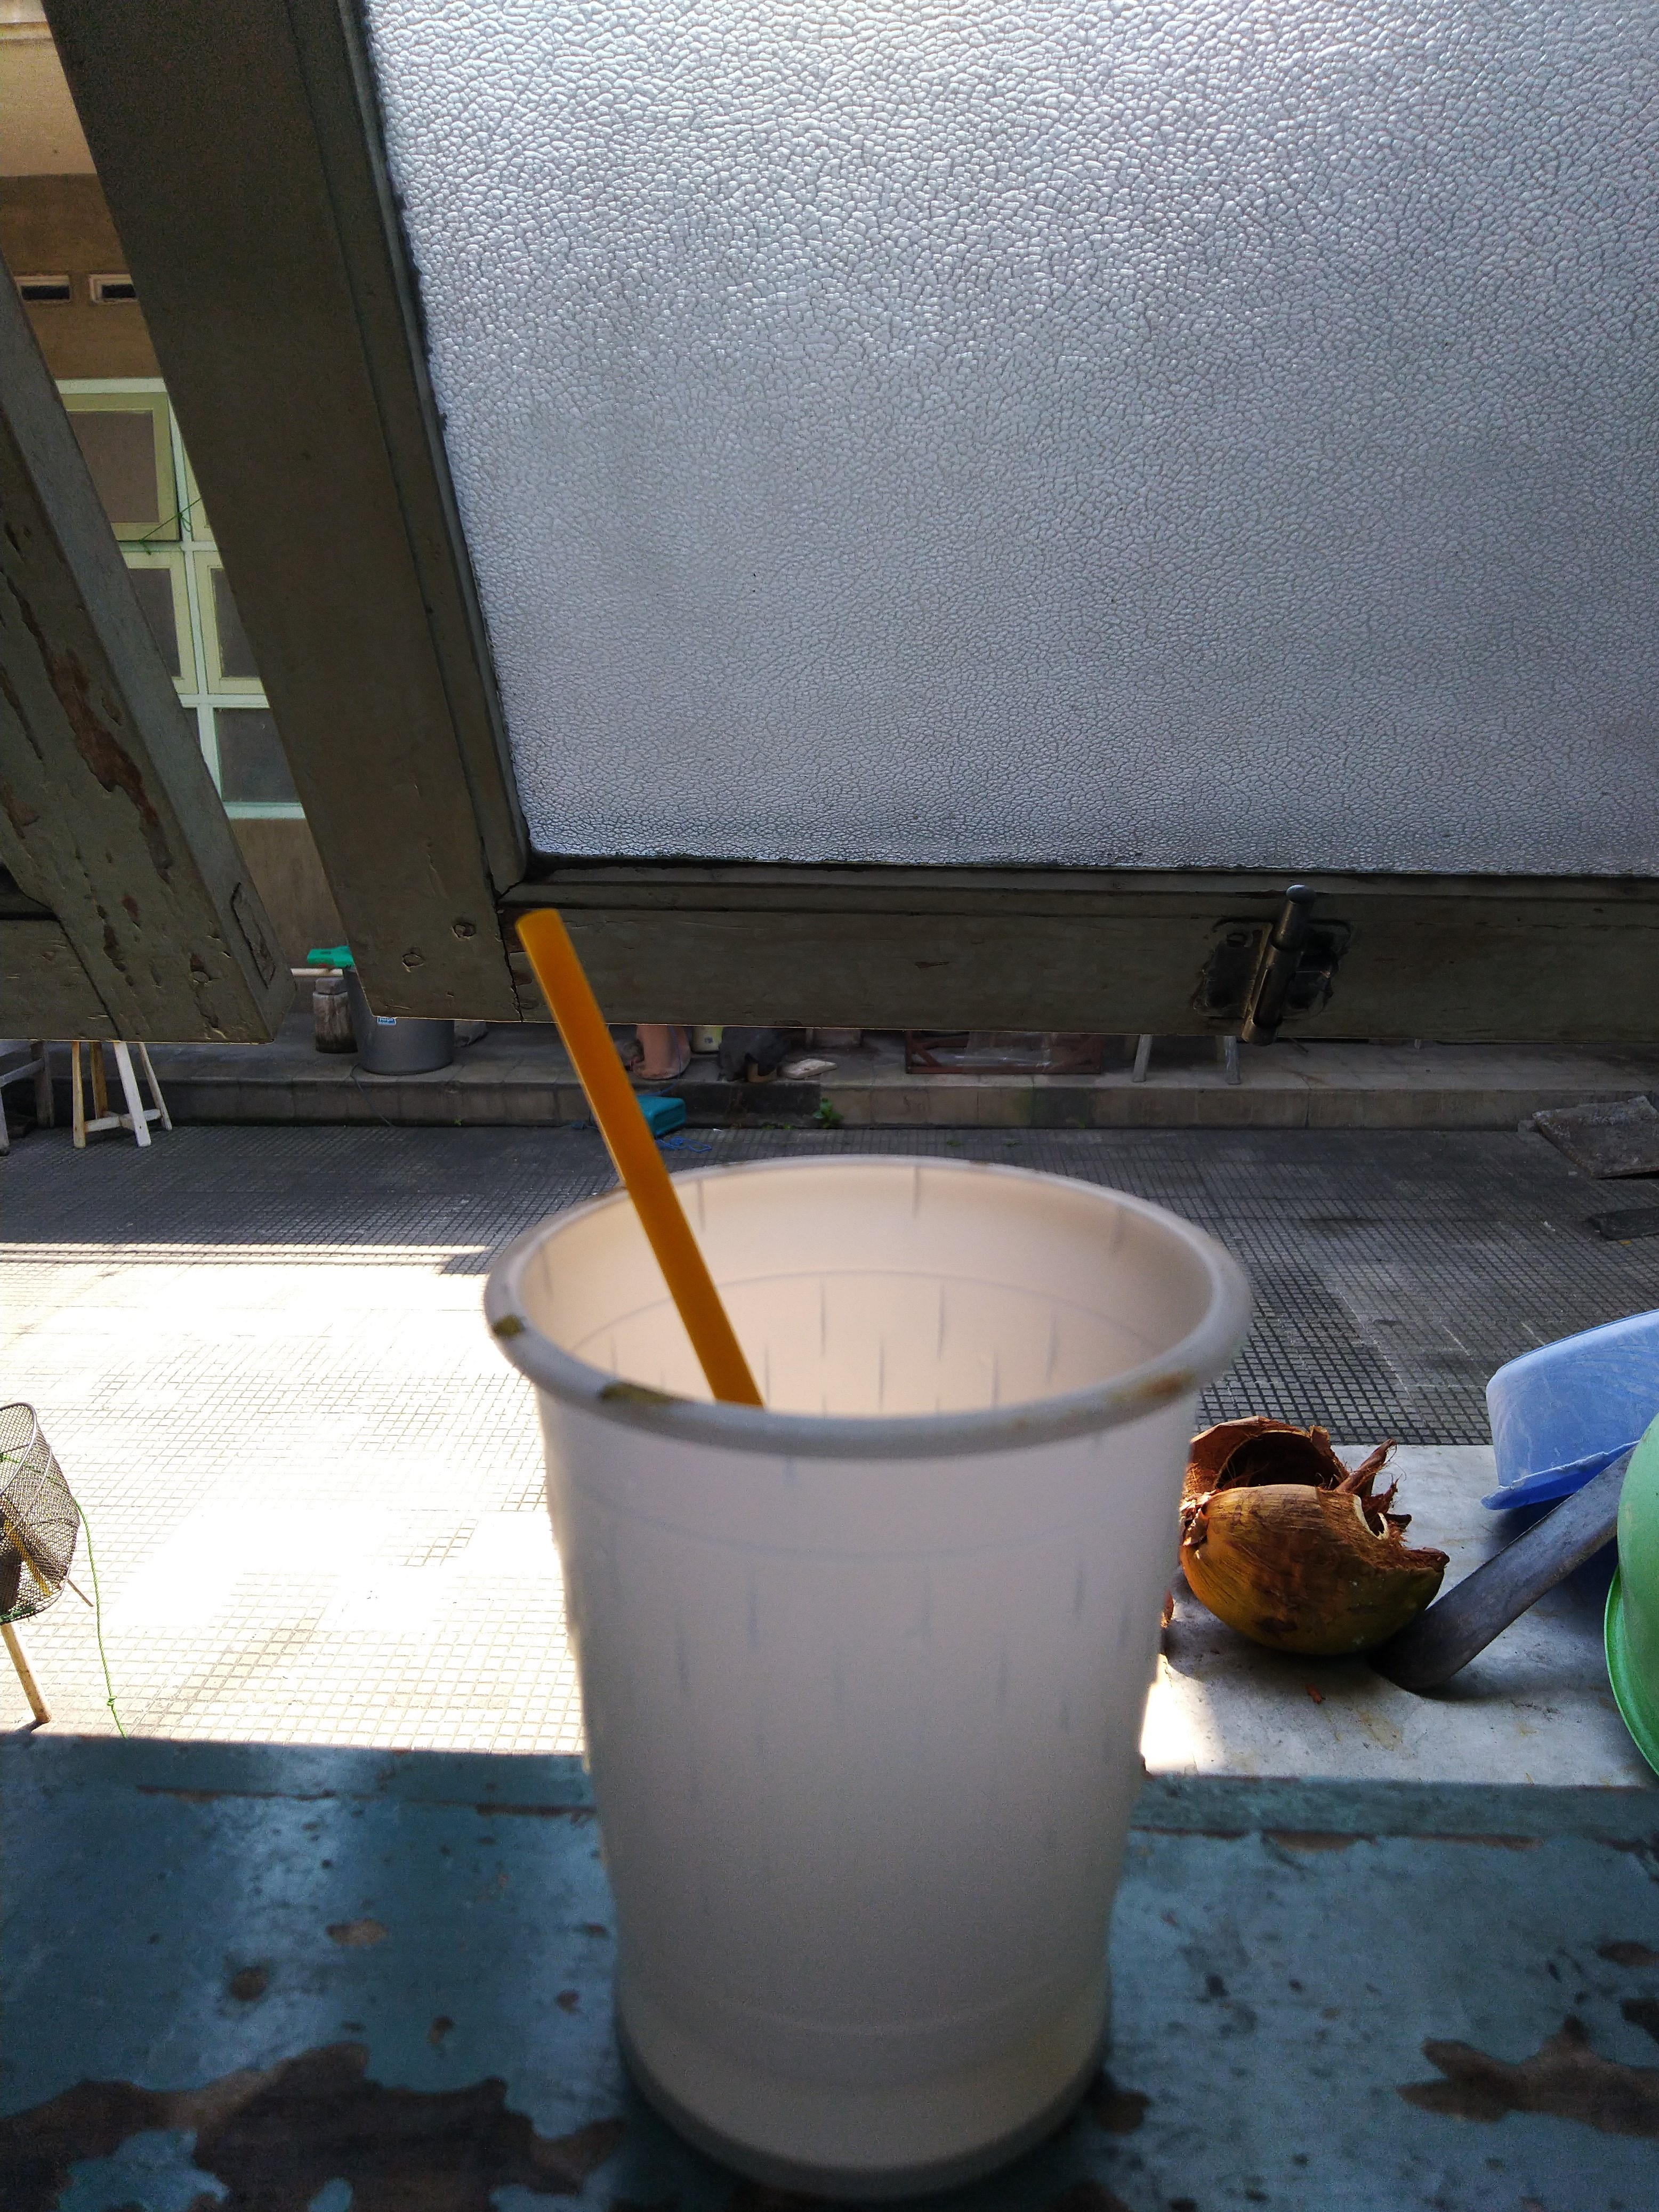PP: (519, 917, 770, 1400)
